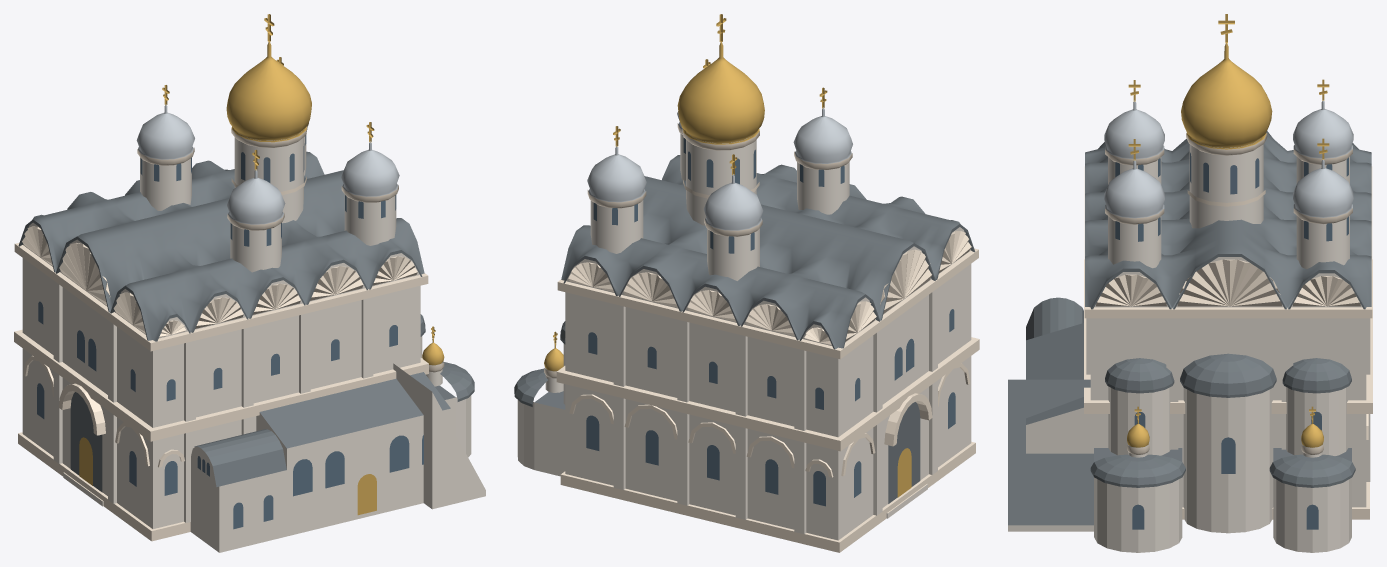
Rendered from moscow-archangel-cathedral.glb.
3 views of the same model, side by side, from view 1: azimuth 30°, elevation 25°; view 2: azimuth 150°, elevation 25°; view 3: azimuth 270°, elevation 25° (orthographic). The views are drawn at different scales.
Parts seen in each view (by area): view 1: Cathedral of the Archangel; view 2: Cathedral of the Archangel; view 3: Cathedral of the Archangel.
Part boxes in pixels (bbox=[...]): Cathedral of the Archangel: bbox=[14, 14, 485, 552]; Cathedral of the Archangel: bbox=[514, 14, 979, 552]; Cathedral of the Archangel: bbox=[1008, 14, 1372, 552].
Bounding box in the file's own units: 35.5 × 42.4 × 30.55.
